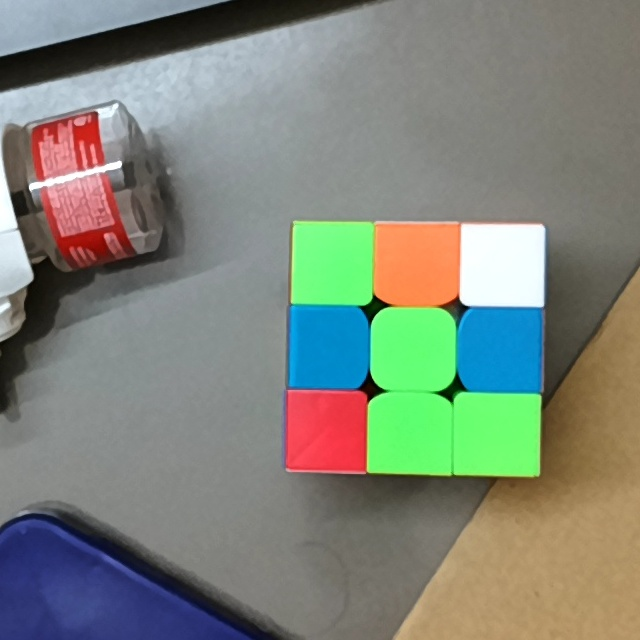tile: (461, 398, 537, 474), (463, 229, 539, 304), (296, 227, 369, 300), (291, 310, 360, 386), (378, 226, 451, 297), (469, 315, 538, 389), (375, 400, 447, 470), (291, 398, 362, 466), (378, 316, 447, 385)
